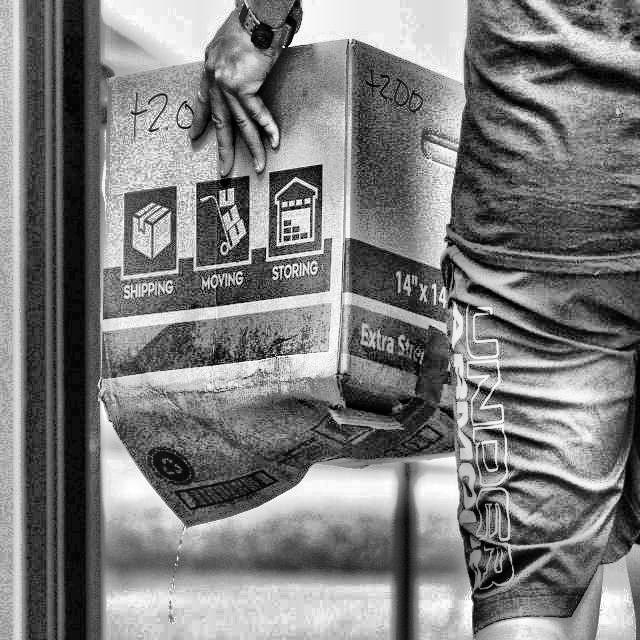box: (90, 28, 503, 541)
wet: (121, 352, 375, 536)
